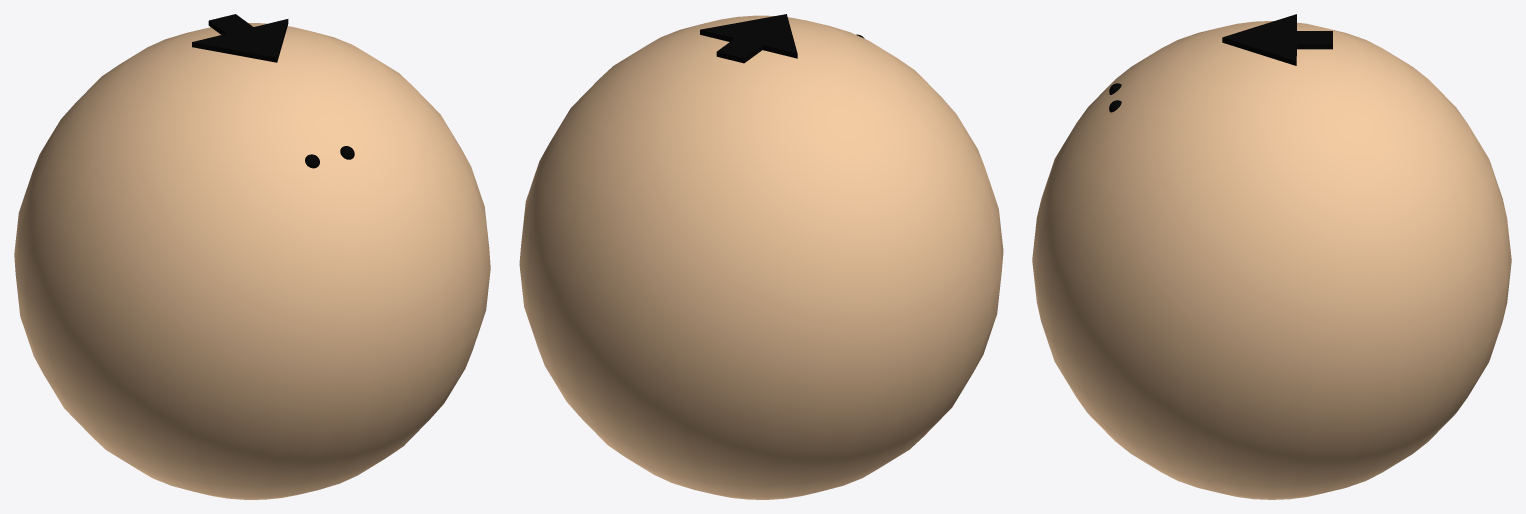
Rendered from 7newb.obj.
3 renders of one model, left to right at view 1: azimuth 30°, elevation 25°; view 2: azimuth 150°, elevation 25°; view 3: azimuth 270°, elevation 25°, orthographic.
Parts seen in each view (by area): view 1: Cube.021_Cube.003, Cube.021_Cube.004_Cube.021_Cube.005; view 2: Cube.021_Cube.003, Cube.021_Cube.004_Cube.021_Cube.005; view 3: Cube.021_Cube.003, Cube.021_Cube.004_Cube.021_Cube.005.
Boxes of the visible parts, x1,y1,x2,y2 form: Cube.021_Cube.003: (14,23,490,499); Cube.021_Cube.004_Cube.021_Cube.005: (192,14,354,168); Cube.021_Cube.003: (519,15,1003,499); Cube.021_Cube.004_Cube.021_Cube.005: (700,14,864,63); Cube.021_Cube.003: (1032,21,1511,499); Cube.021_Cube.004_Cube.021_Cube.005: (1109,14,1332,112).
Bounding box in the file's own units: 0.4999 × 0.5016 × 0.4999.
